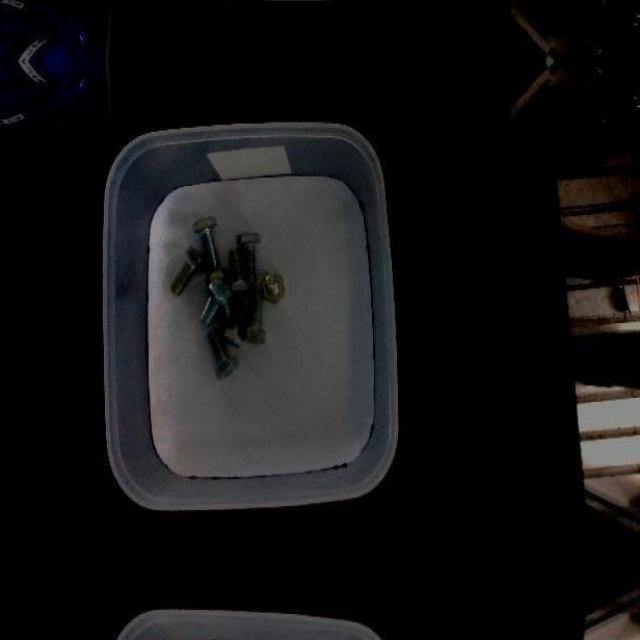screw: (169, 245, 207, 297), (207, 325, 239, 379), (202, 276, 232, 326), (193, 216, 220, 268), (242, 291, 267, 345), (237, 231, 261, 282), (262, 270, 284, 301)
